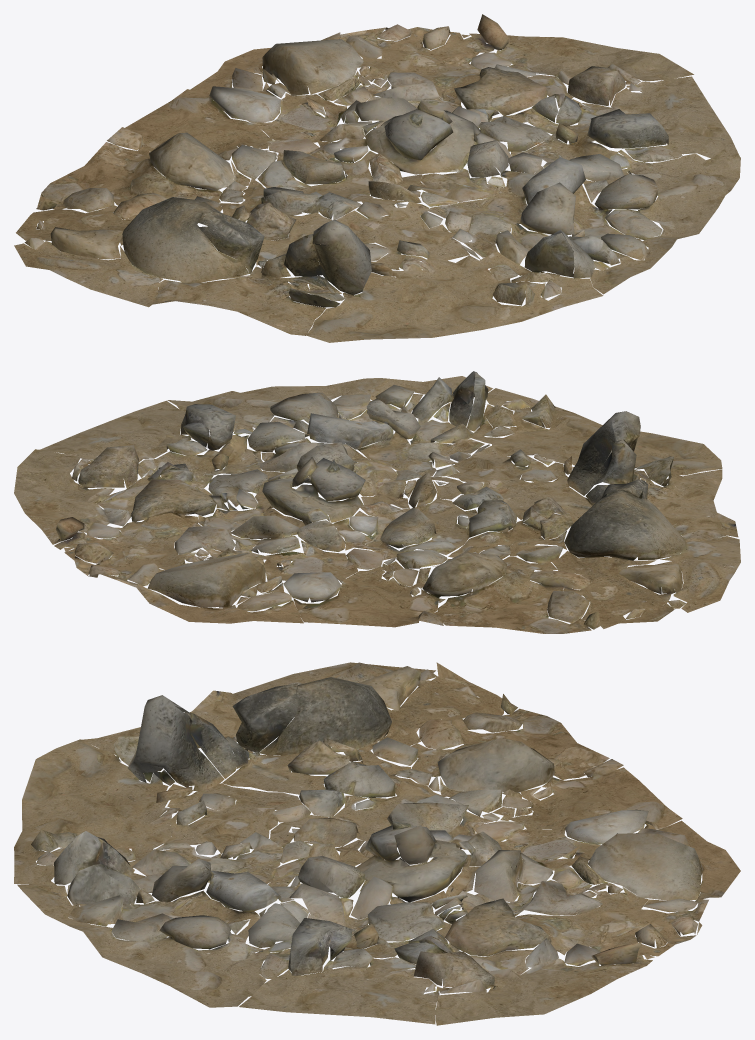
Rendered from sand-rock.glb.
The picture shows the model from 3 angles, top to bottom: view 1: azimuth 30°, elevation 25°; view 2: azimuth 150°, elevation 25°; view 3: azimuth 270°, elevation 25°; orthographic projection. The views are drawn at different scales.
Visible parts, largest first — view 1: sand_rocks_small_01_LOD0; view 2: sand_rocks_small_01_LOD0; view 3: sand_rocks_small_01_LOD0.
Boxes of the visible parts, x1,y1,x2,y2 form: sand_rocks_small_01_LOD0: (14, 14, 740, 342); sand_rocks_small_01_LOD0: (14, 371, 740, 633); sand_rocks_small_01_LOD0: (14, 662, 740, 1025).
Size of the model in its own units: 4.64 by 0.5335 by 3.89.
1 material, 1 textured.
